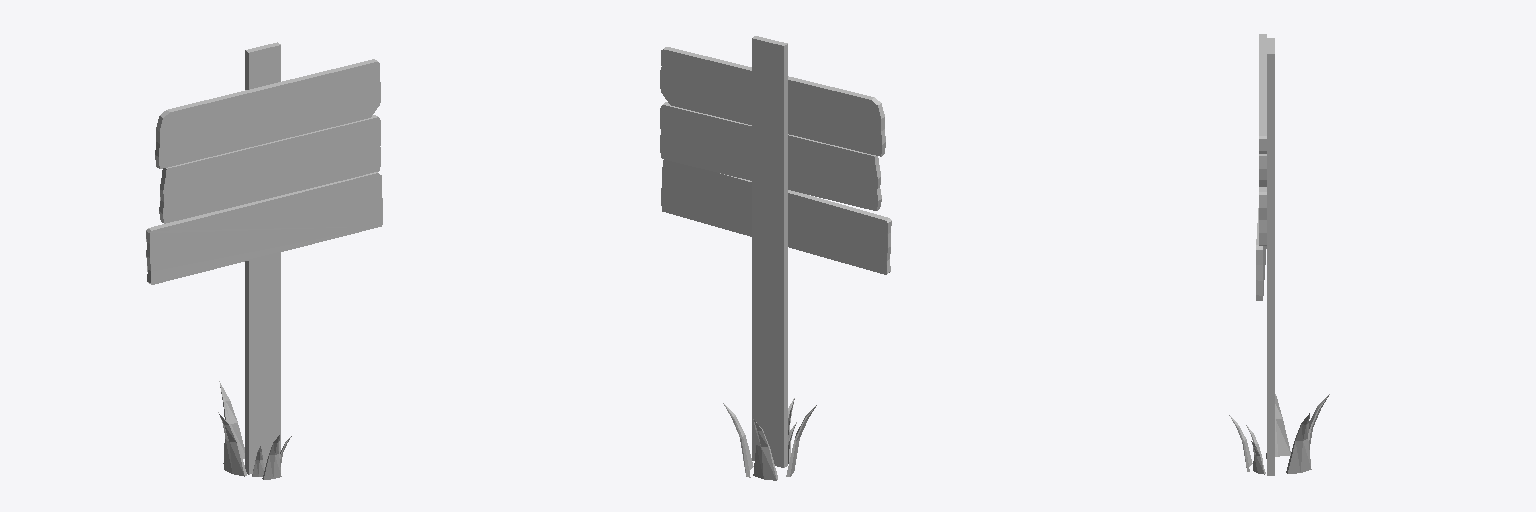
The model's file is Sign7.obj.
3 renders of one model, left to right at view 1: azimuth 30°, elevation 25°; view 2: azimuth 150°, elevation 25°; view 3: azimuth 270°, elevation 25°, orthographic.
Visible parts, largest first — view 1: Sign7; view 2: Sign7; view 3: Sign7.
Part boxes in pixels (left/top/right/bottom): Sign7: left=146, top=42, right=382, bottom=479; Sign7: left=660, top=36, right=891, bottom=480; Sign7: left=1229, top=34, right=1329, bottom=475.
Size of the model in its own units: 1.13 by 1.98 by 0.4385.